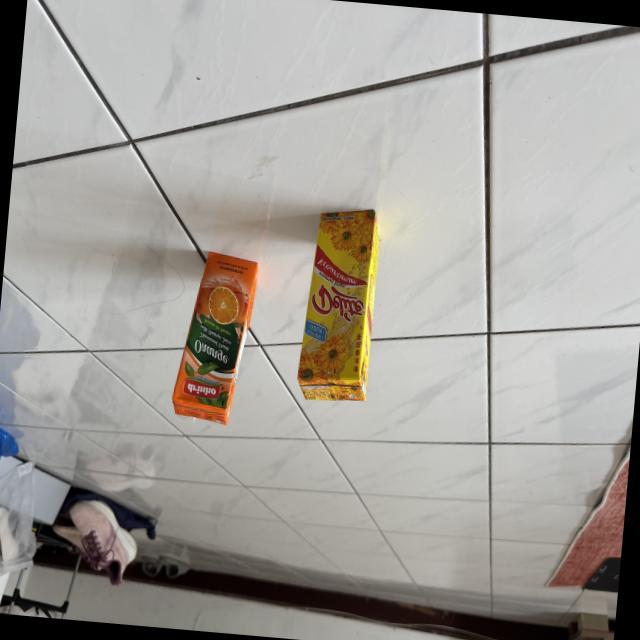drink_carton: (161, 236, 272, 437), (288, 196, 388, 412)
